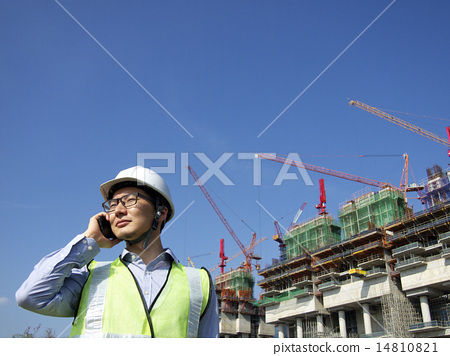phone: (85, 213, 113, 247)
talk: (82, 190, 148, 244)
